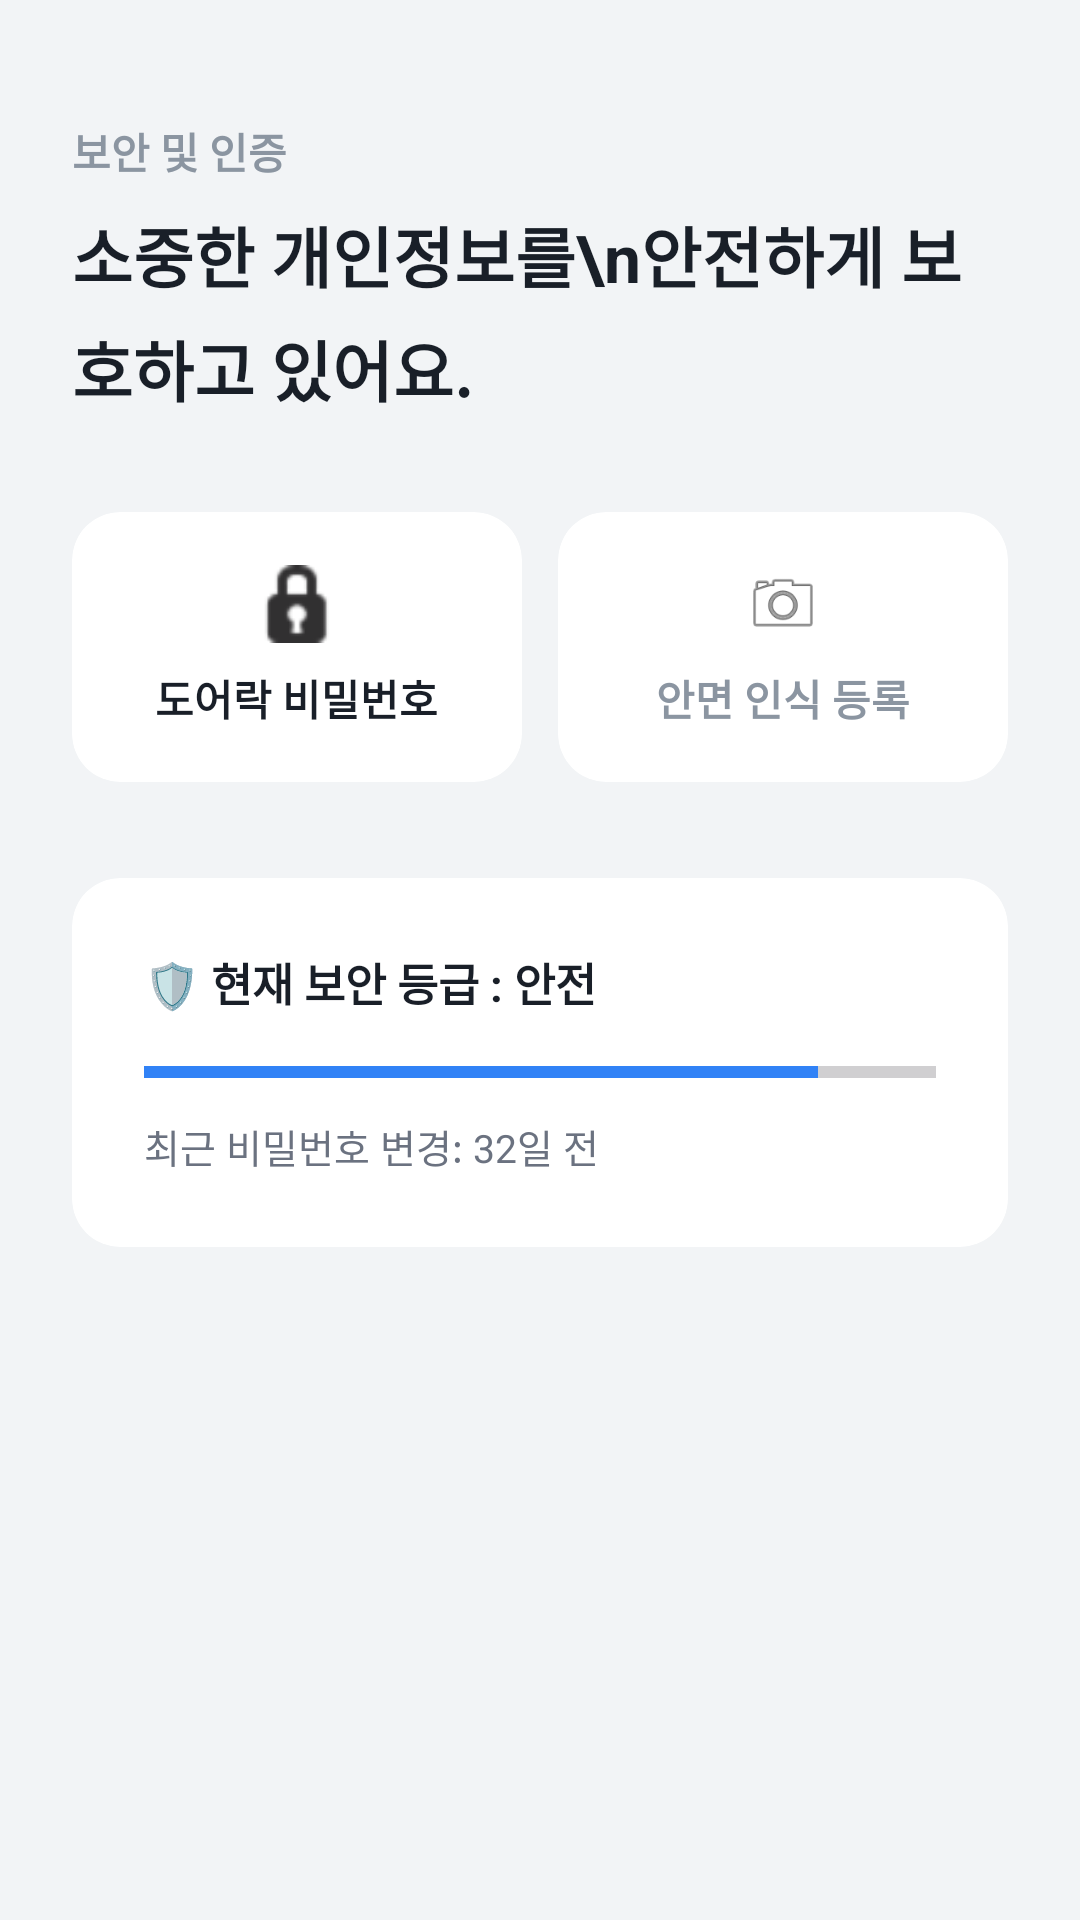

Named icons in this screenshot (1080 x 1920) and their bounding boxes, (x1, y1, x2, y2):
camera: (753, 579, 813, 627)
secure: (266, 565, 327, 643)
